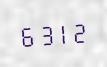one: (52, 20, 68, 45)
six: (18, 22, 34, 48)
three: (35, 21, 51, 47)
two: (69, 18, 85, 44)
